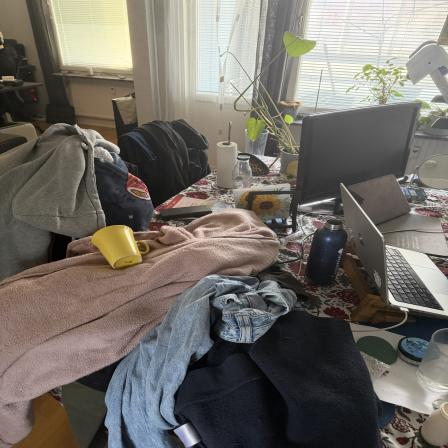blue_bottle: (308, 218, 346, 284)
phone: (159, 205, 215, 221)
yellow_cup: (88, 224, 152, 269)
